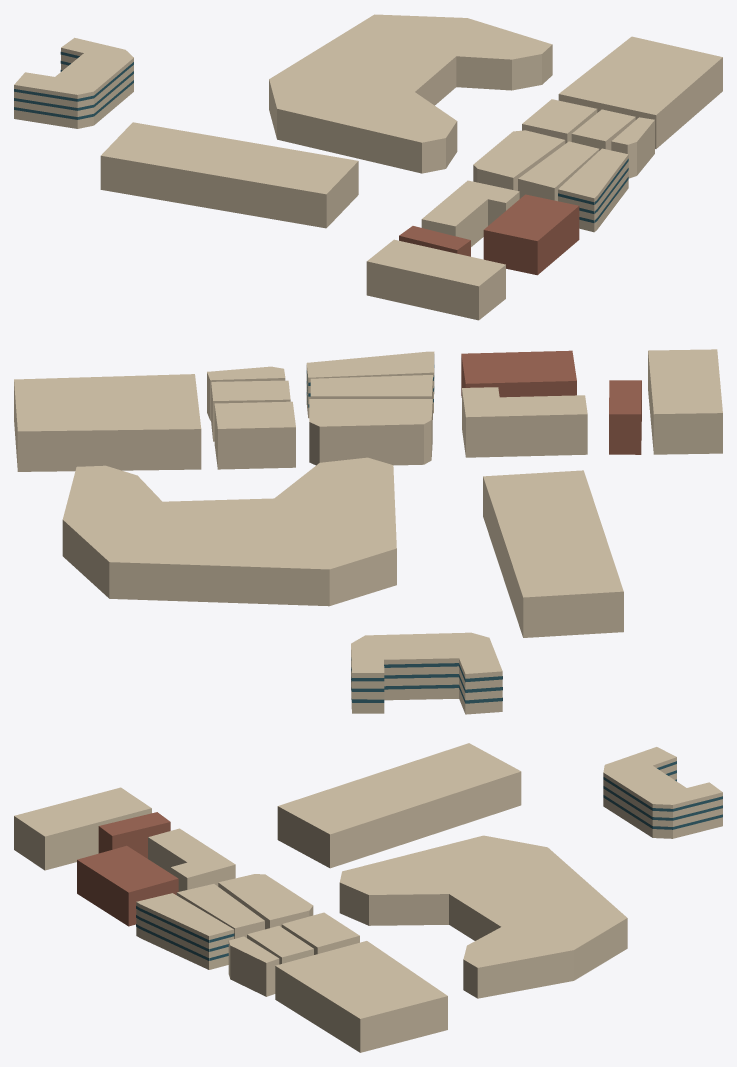
File: city_-1_3.glb
3 renders of one model, top to bottom at view 1: azimuth 30°, elevation 25°; view 2: azimuth 150°, elevation 25°; view 3: azimuth 270°, elevation 25°, orthographic. The views are drawn at different scales.
Parts seen in each view (by area): view 1: city_-1_3; view 2: city_-1_3; view 3: city_-1_3.
Part boxes in pixels (bbox=[...]): city_-1_3: bbox=[14, 14, 722, 320]; city_-1_3: bbox=[14, 349, 722, 714]; city_-1_3: bbox=[14, 743, 722, 1052].
Size of the model in its own units: 261 by 15 by 284.
